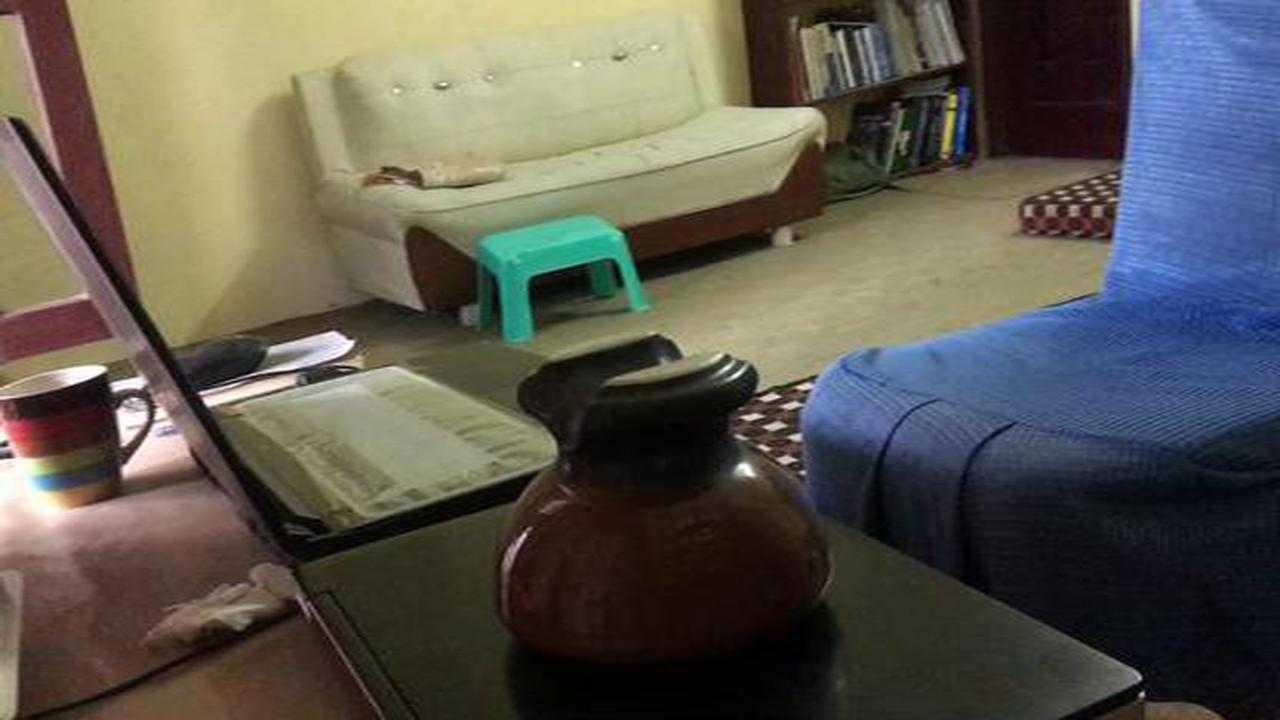insulator_pin: (465, 324, 859, 682)
